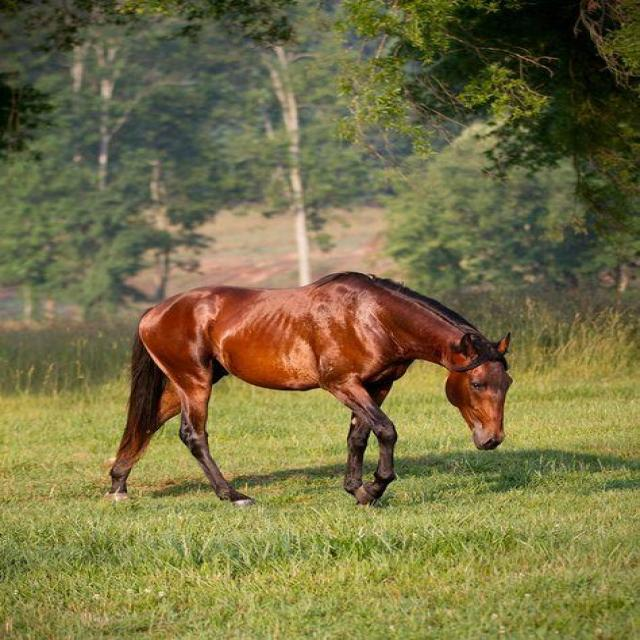horse: (103, 270, 513, 509)
